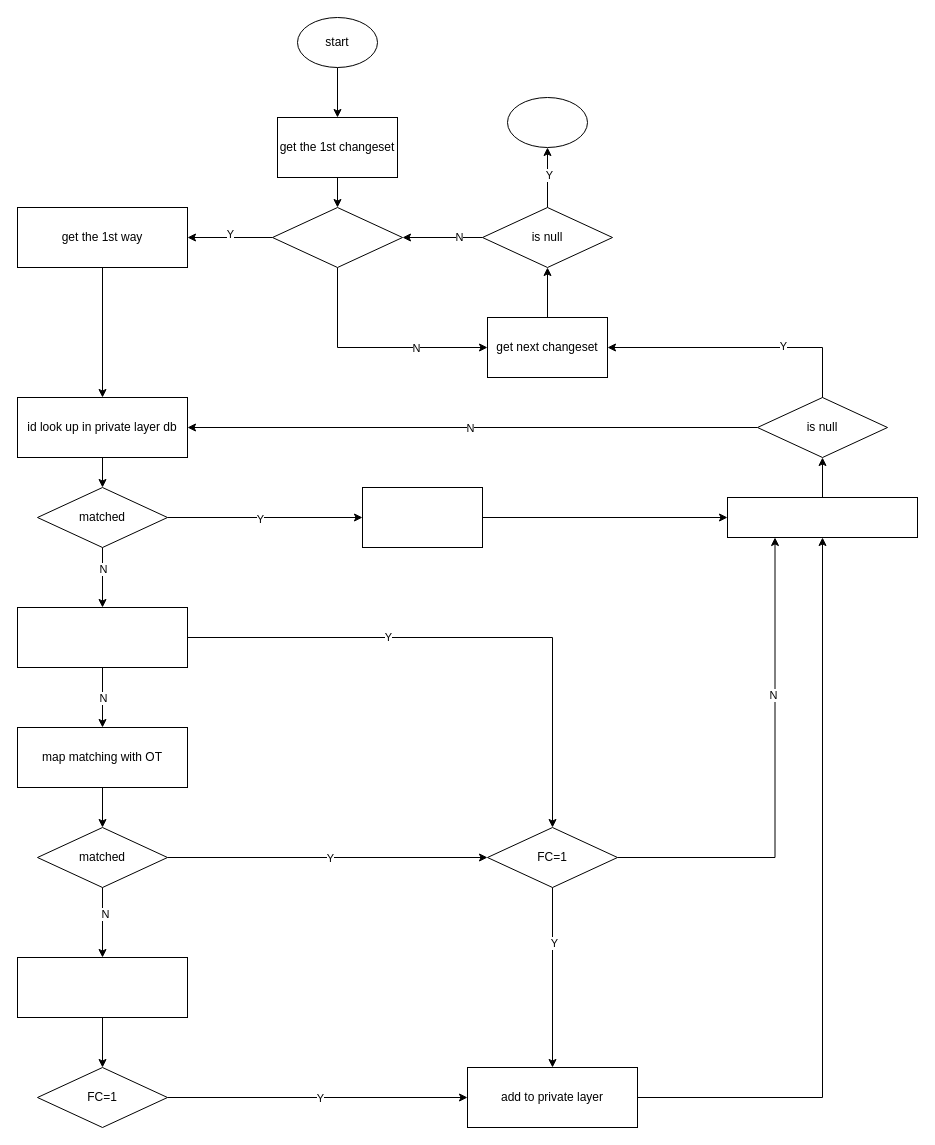
Image size: 935x1145. Some labels were removed from this diagram. Here are the shapes that lost their labels. From the top down, the centre of each, then its label:
[547,122]: end
[337,237]: isCandidate
[422,517]: update geometry
[822,517]: get next way
[102,637]: id look up in OT
[102,987]: assing FC
